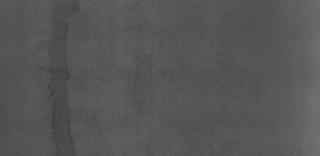water spot: (39, 4, 83, 156)
